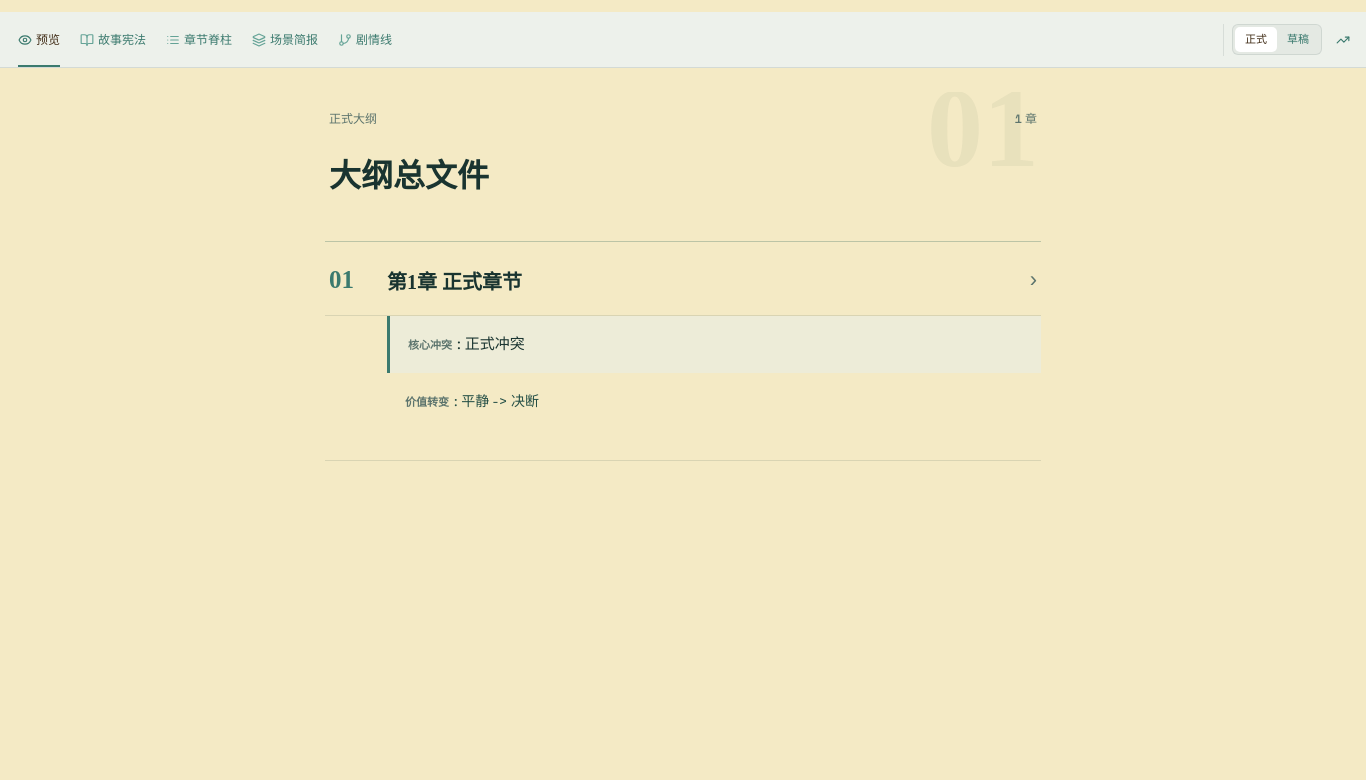
OutlineMasterEditor draft fallback › keeps the official outline visible after a load failure and can retry
Click the button "草稿". click: (1298, 40)
box: [1277,27,1319,52]
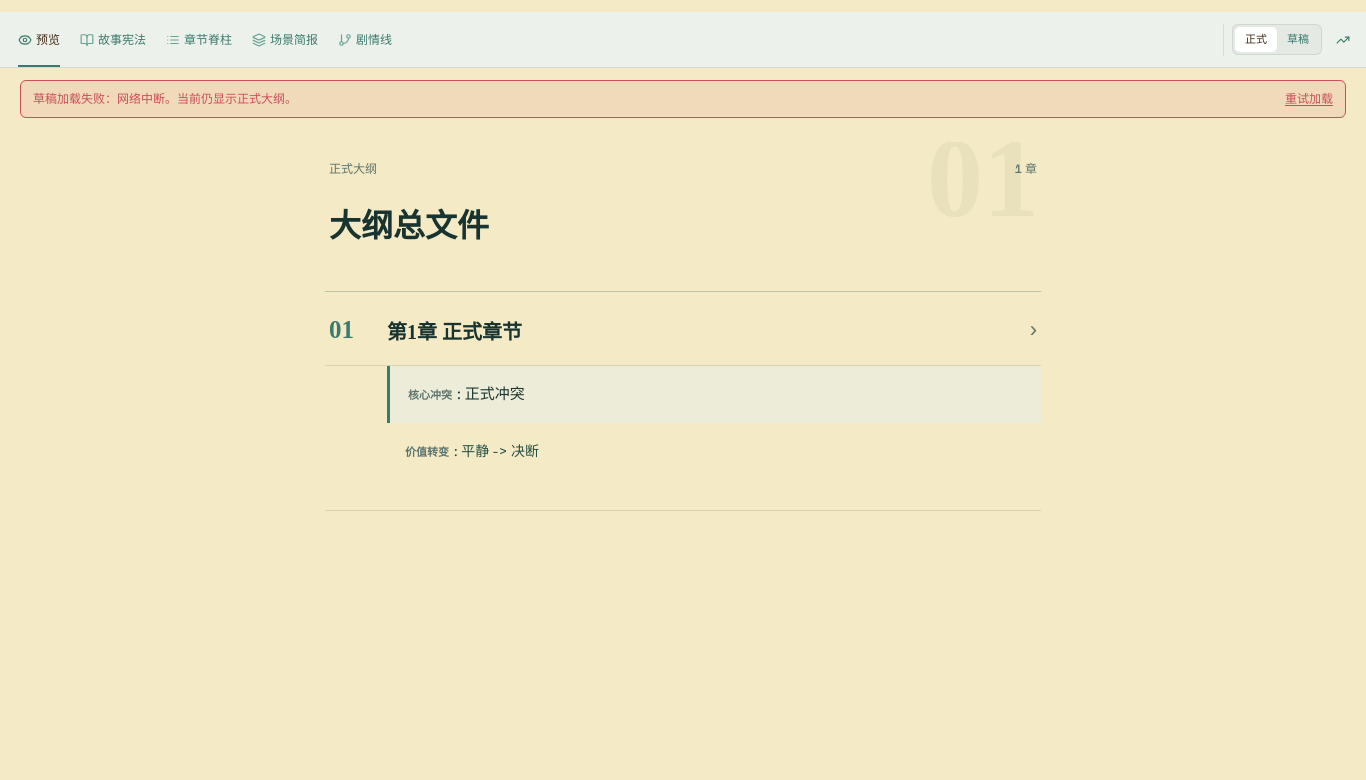
Check: the text "正式大纲" is shown, box [329,160,377,178]
Check: the message shows "草稿加载失败：网络中断", box [33,91,297,107]
Click the button "重试加载". click: (1309, 99)
box: [1285,89,1333,109]
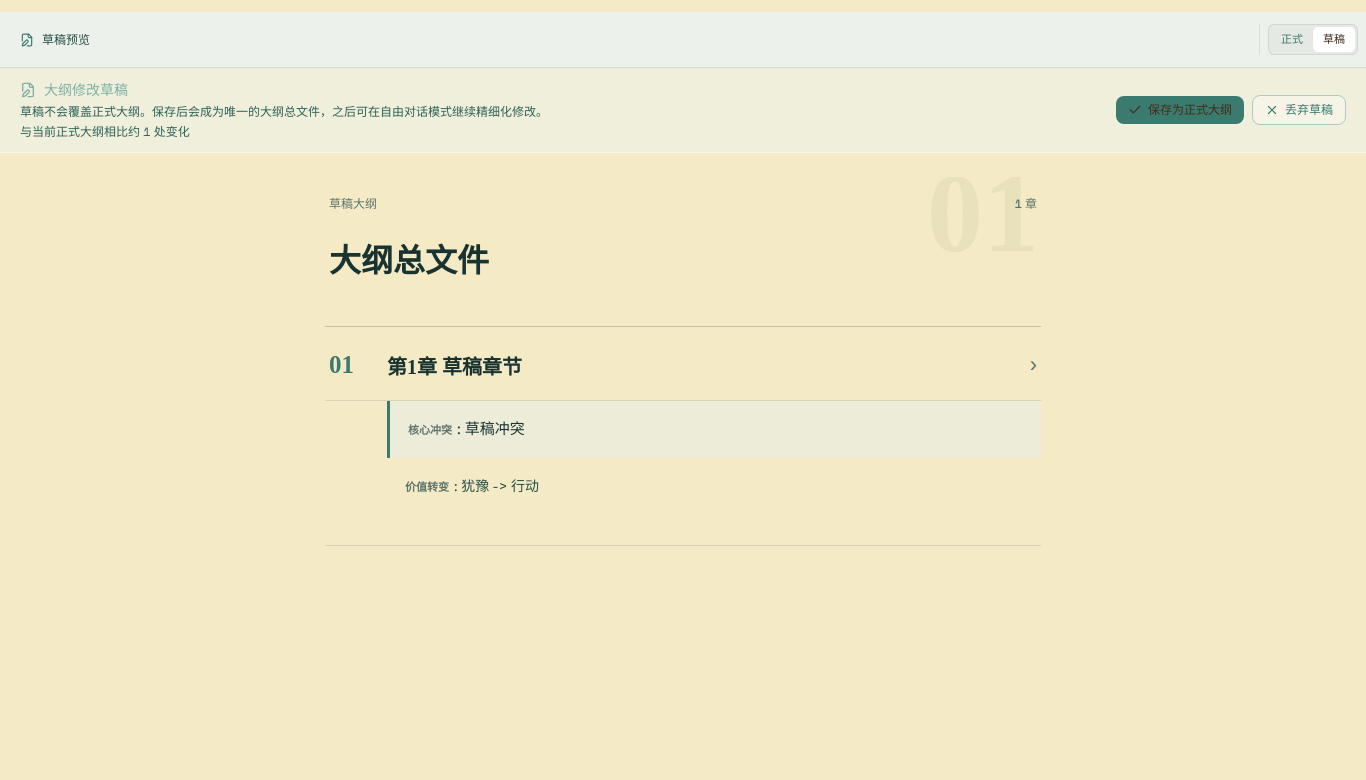
Check: the text "大纲修改草稿" is shown, box [20,81,128,99]
Check: the text "草稿大纲" is shown, box [329,195,377,213]
Check: the heading "第1章 草稿章节" is shown, box [325,327,1041,401]
